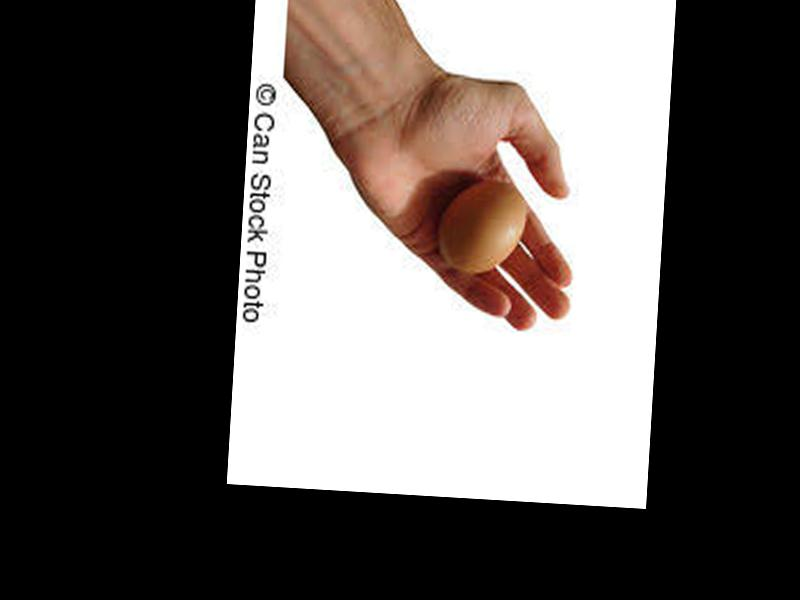Eggs: (437, 181, 524, 277)
